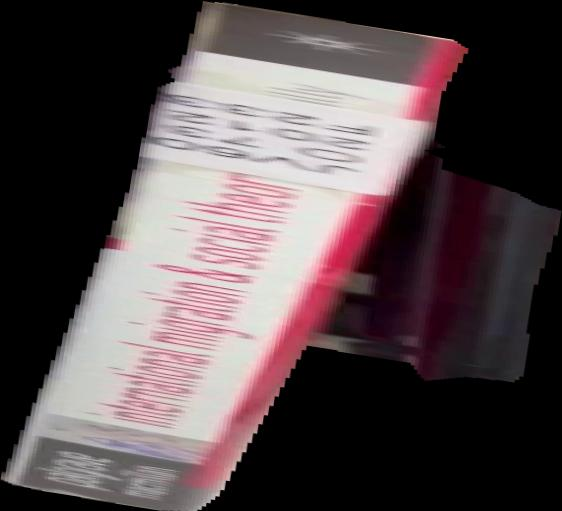reverse: (1, 1, 562, 511)
